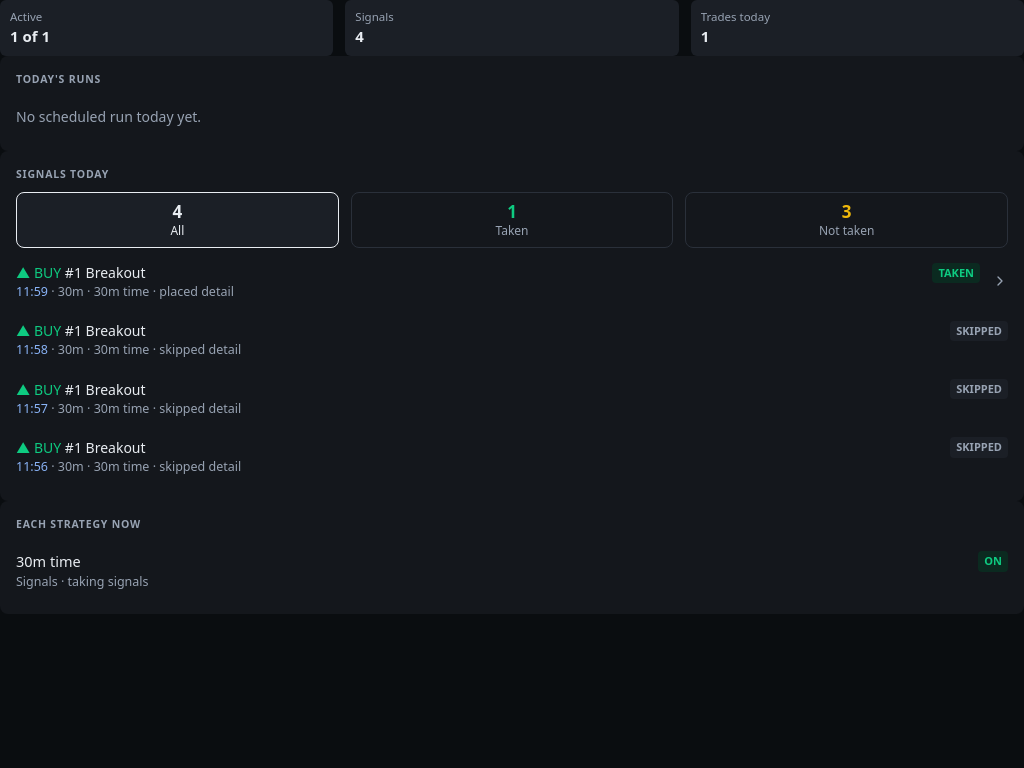
Test: StrategiesScreen: the day's signals in three tabs › [critical] a signal skipped for its score (10 Nov 2026) has its own reason chip, and a tap shows it alone
Click the button "Not taken 3" at (847, 220), box [685,192,1008,248]
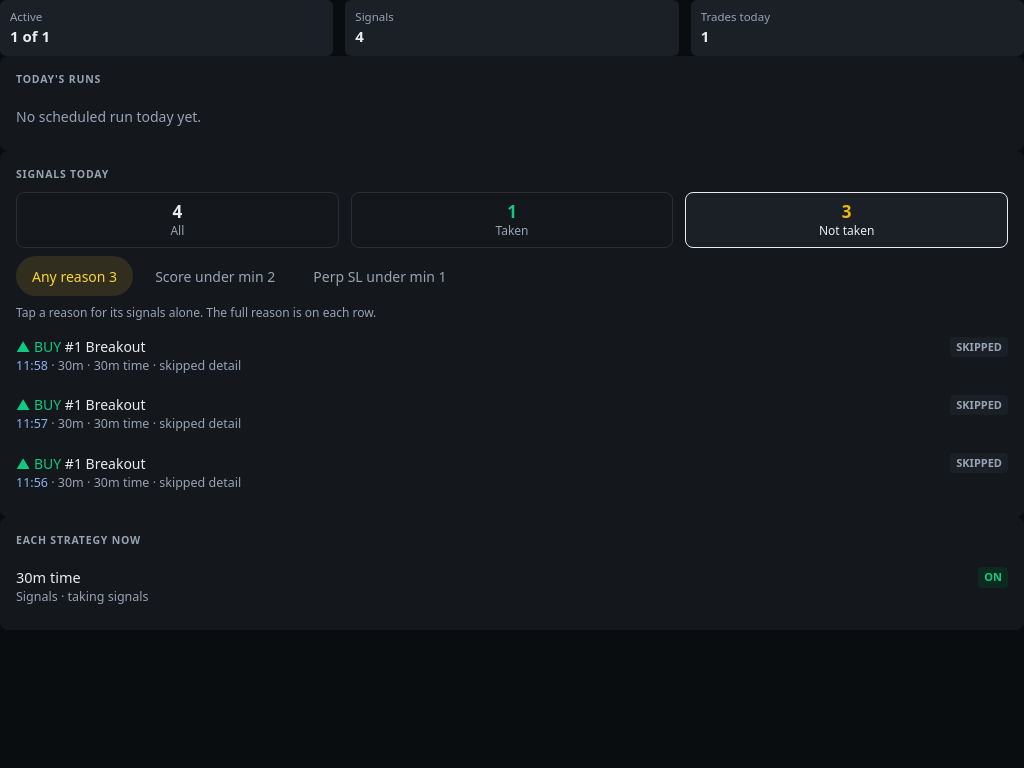
Result: the buttons read "Any reason 3", "Score under min 2", "Perp SL under min 1", in this order
Click the button "Score under min 2" at (215, 276), box [139,256,291,296]
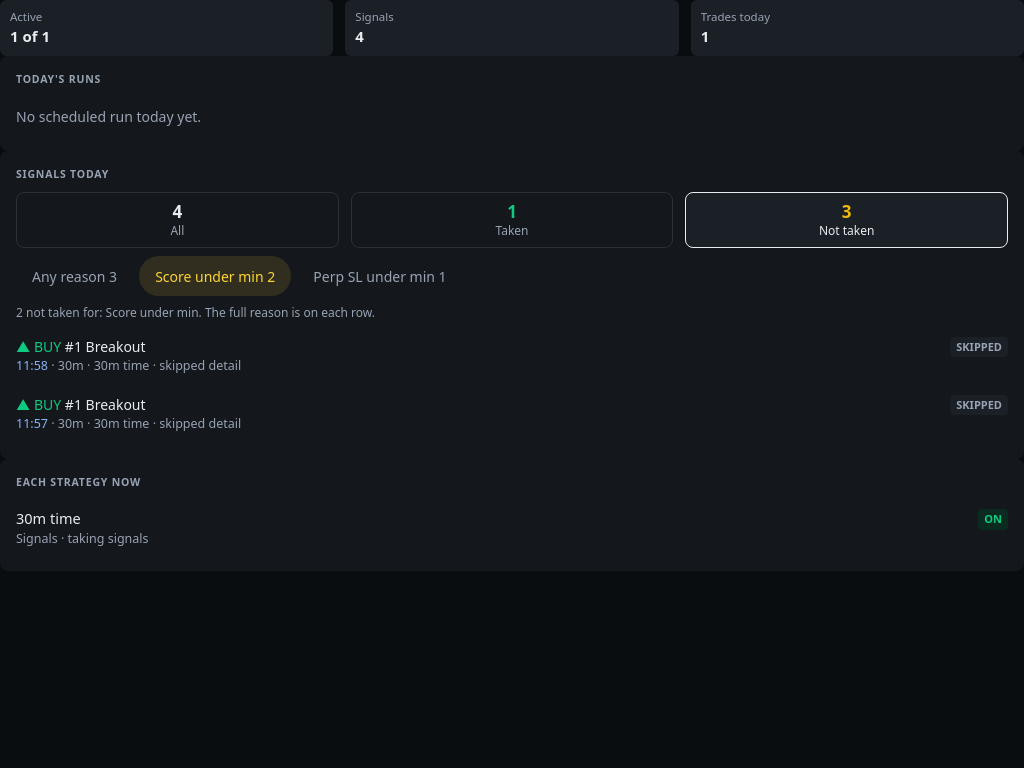
Result: the text "2 not taken for: Score under min." is shown at [16,304,202,321]
